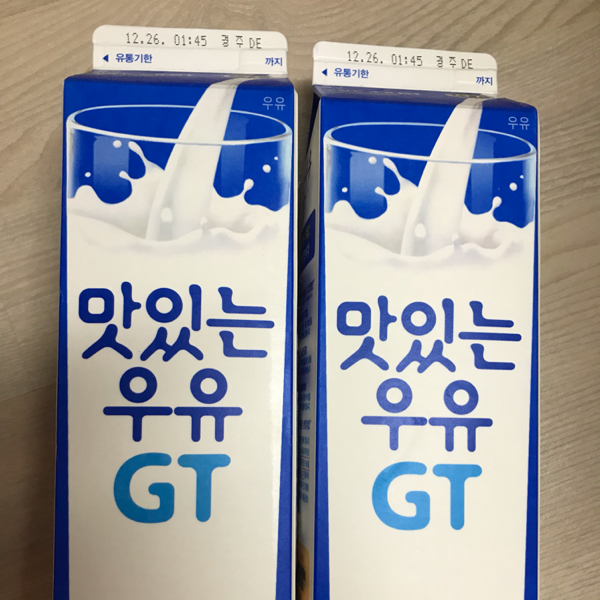milk: (62, 25, 296, 600), (301, 42, 540, 600)
